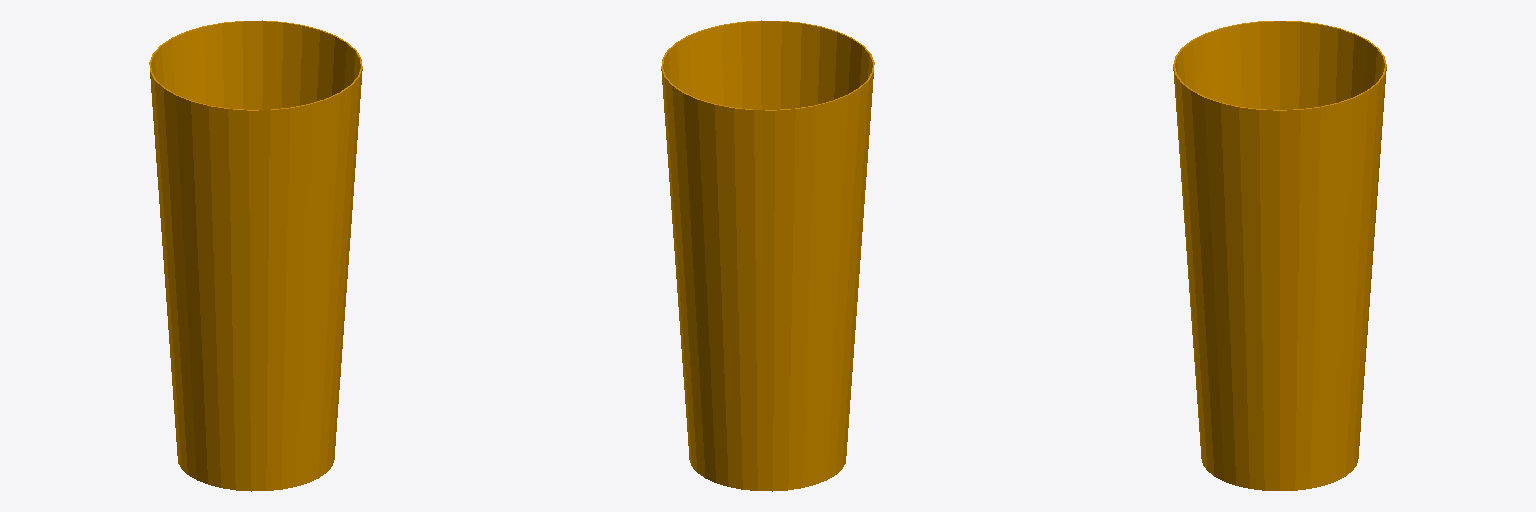
robot.urdf — cup2:
<?xml version="1.0"?>
<robot name="cup2">
  <link name="cup_link">
    <inertial>
      <origin rpy="0 0 0" xyz="0 0 0"/>
      <mass value="0.02"/>
      <inertia ixx="1" ixy="0" ixz="0" iyy="1" iyz="0" izz="1"/>
    </inertial>
    <visual>
      <origin rpy="1.570796 0 0" xyz="0 0 0"/>
      <geometry>
        <mesh filename="meshes/cup2.obj"/>
      </geometry>
    </visual>
    <collision concave="yes">
      <origin rpy="1.570796 0 0" xyz="0 0 0"/>
      <geometry>
        <mesh filename="meshes/cup2.obj"/>
      </geometry>
    </collision>
  </link>
</robot>

--- Render facts (derived) ---
The picture shows the robot from 3 angles, left to right: view 1: azimuth 30°, elevation 25°; view 2: azimuth 150°, elevation 25°; view 3: azimuth 270°, elevation 25°; orthographic projection.
Model cup2 with 1 links and 0 joints (none), rooted at cup_link, posed all joints at 0.
Visible links, largest first — view 1: cup_link; view 2: cup_link; view 3: cup_link.
Link boxes in pixels (bbox=[...]): cup_link: bbox=[149, 20, 362, 491]; cup_link: bbox=[661, 20, 874, 491]; cup_link: bbox=[1173, 21, 1386, 490].
Bounding box of the posed robot: 0.0425 × 0.0425 × 0.0862 m (x, y, z).
Meshes: 1 distinct files referenced, 1 mesh visuals loaded (1 OBJ).